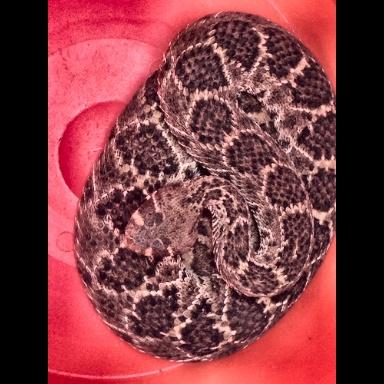snake: (73, 12, 335, 365)
